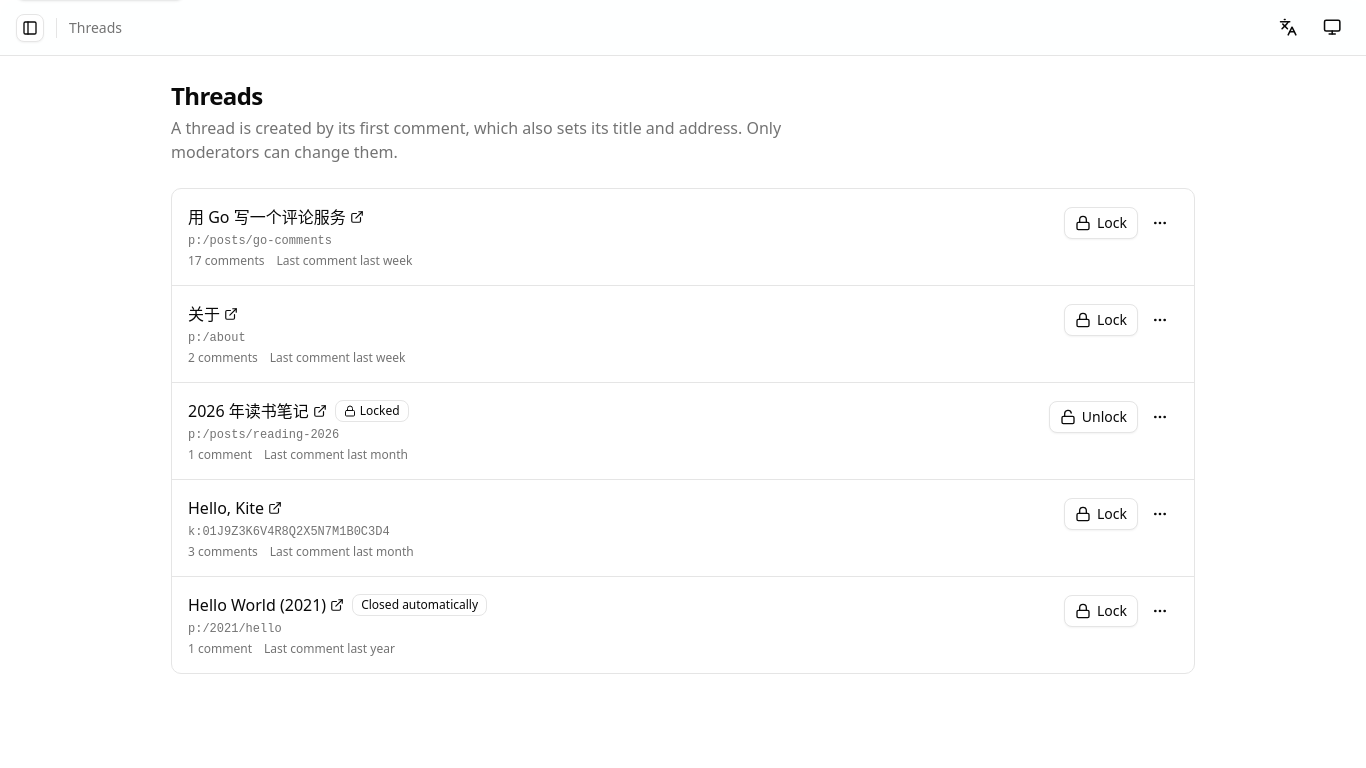
Scenario: moderation › corrects a title set by the first commenter, refusing a future date
Step 1. Click the button named "More actions" → (1160, 320), box [1142, 302, 1178, 338]
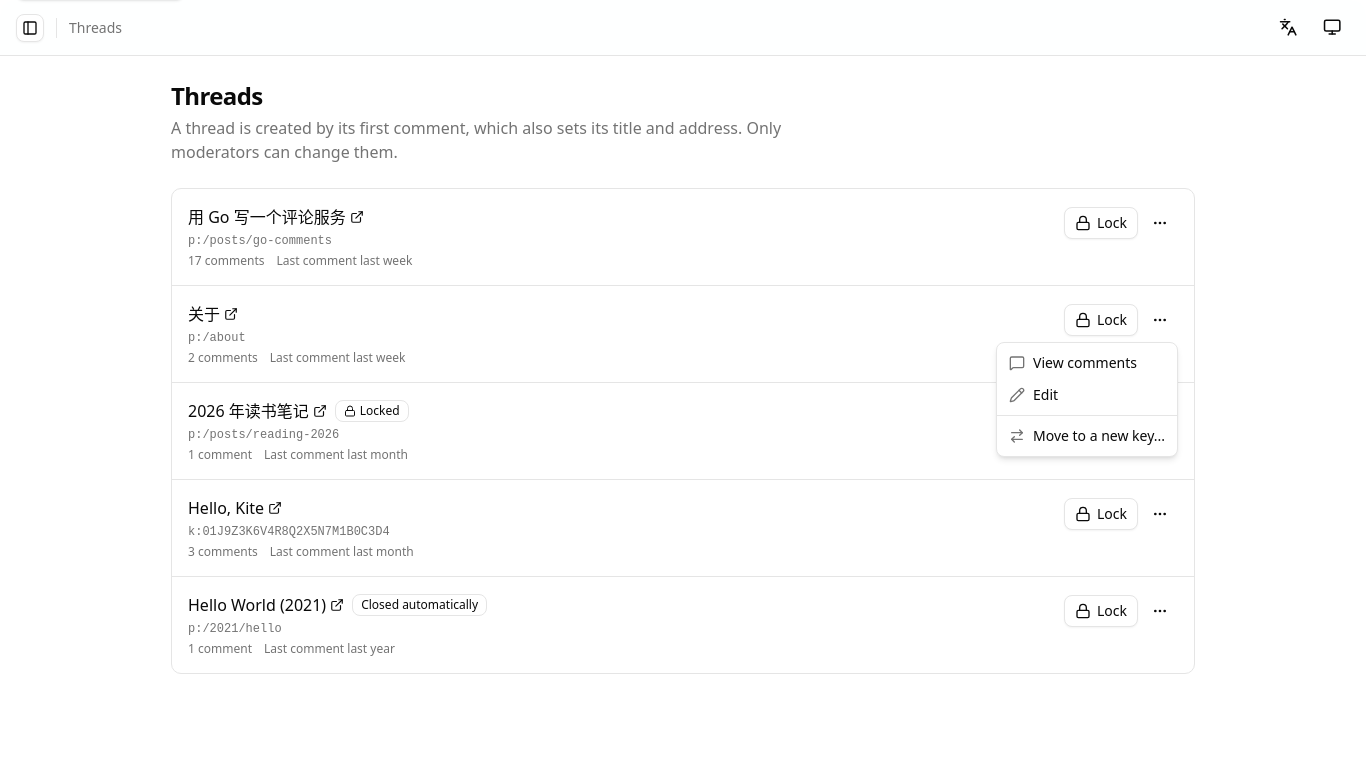
Step 2. Click the menu item "Edit" → (1034, 394), box [1009, 385, 1058, 404]
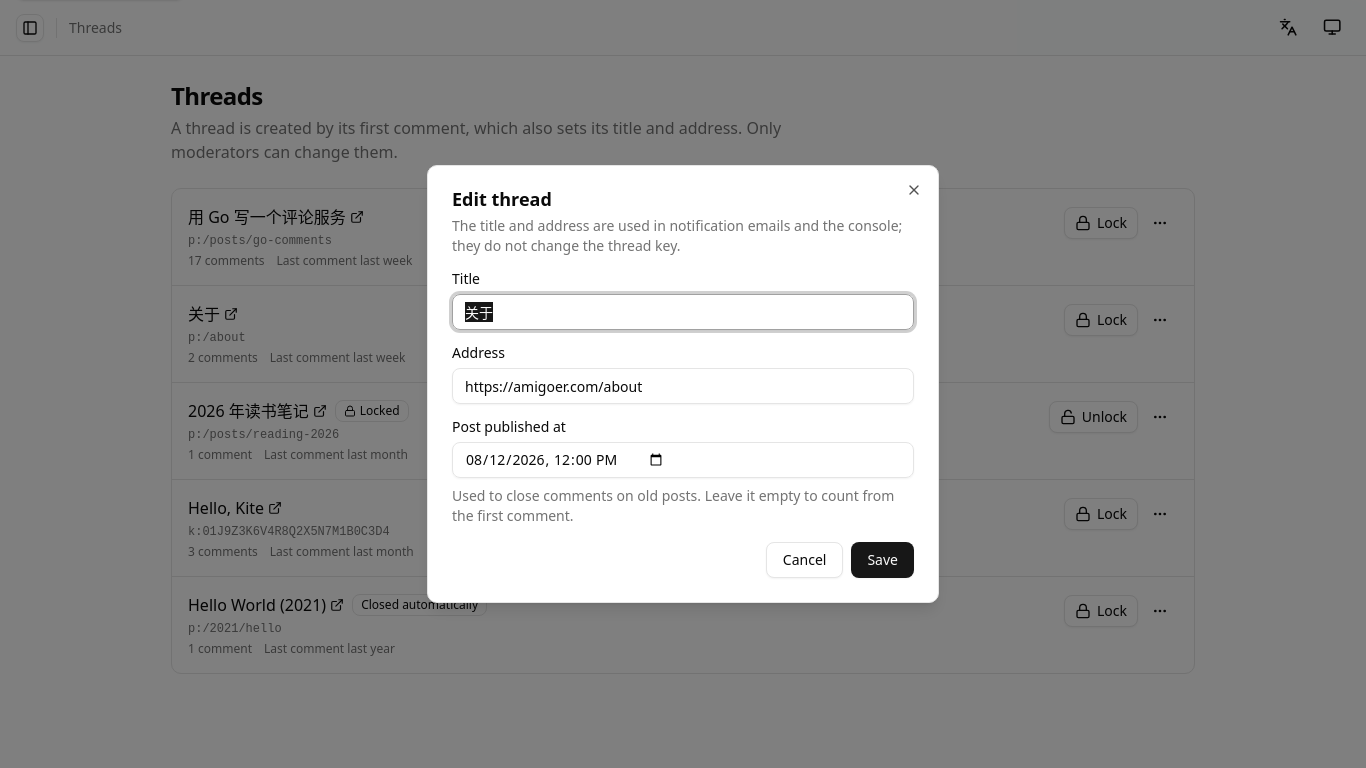
Step 3. Replace the text in the field labelled "Post published at" with "2999-01-01T00:00" → (683, 460), box [452, 442, 914, 478]
Step 4. Click the button "Save" → (883, 560), box [851, 542, 914, 578]
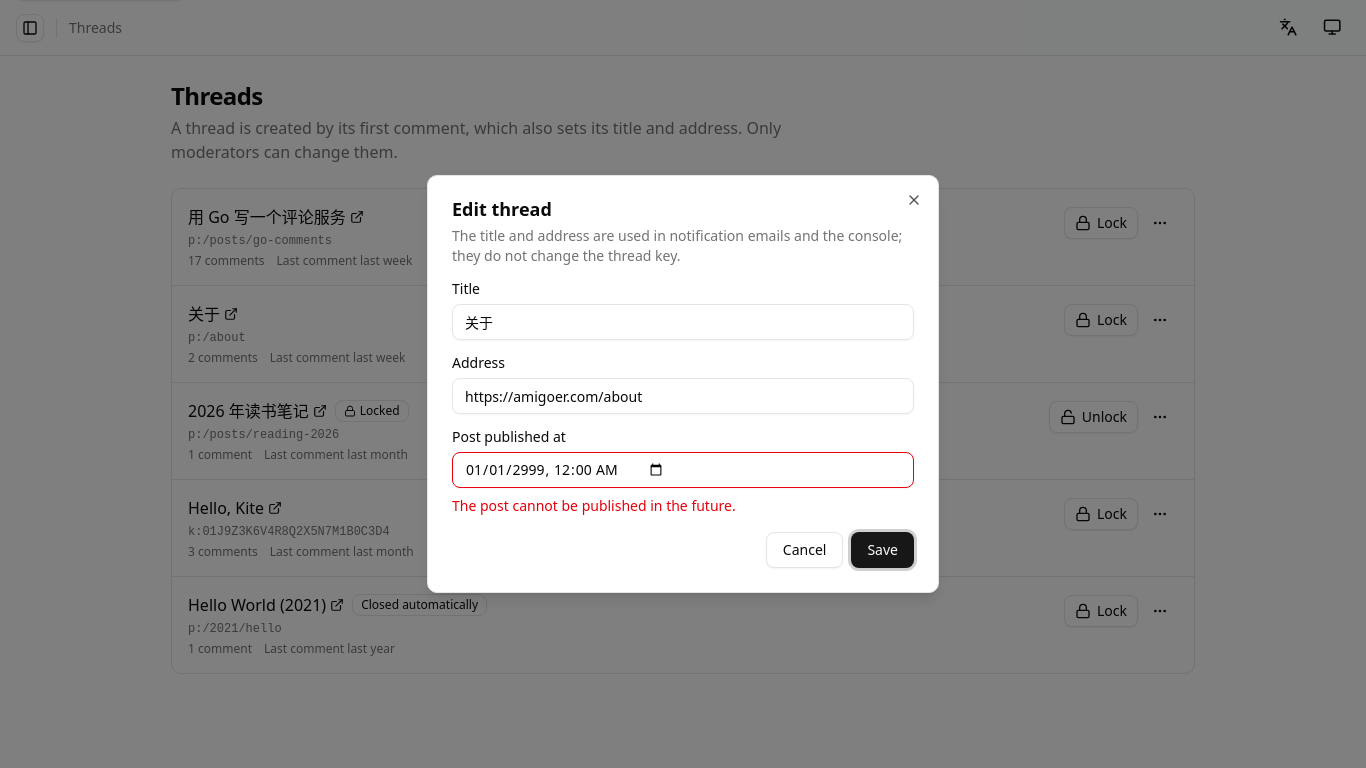
Expected: the text "The post cannot be published in the future." is shown, [452, 496, 736, 515]
Step 5. Replace the text in the field labelled "Post published at" with "2020-01-01T00:00" → (683, 470), box [452, 452, 914, 488]
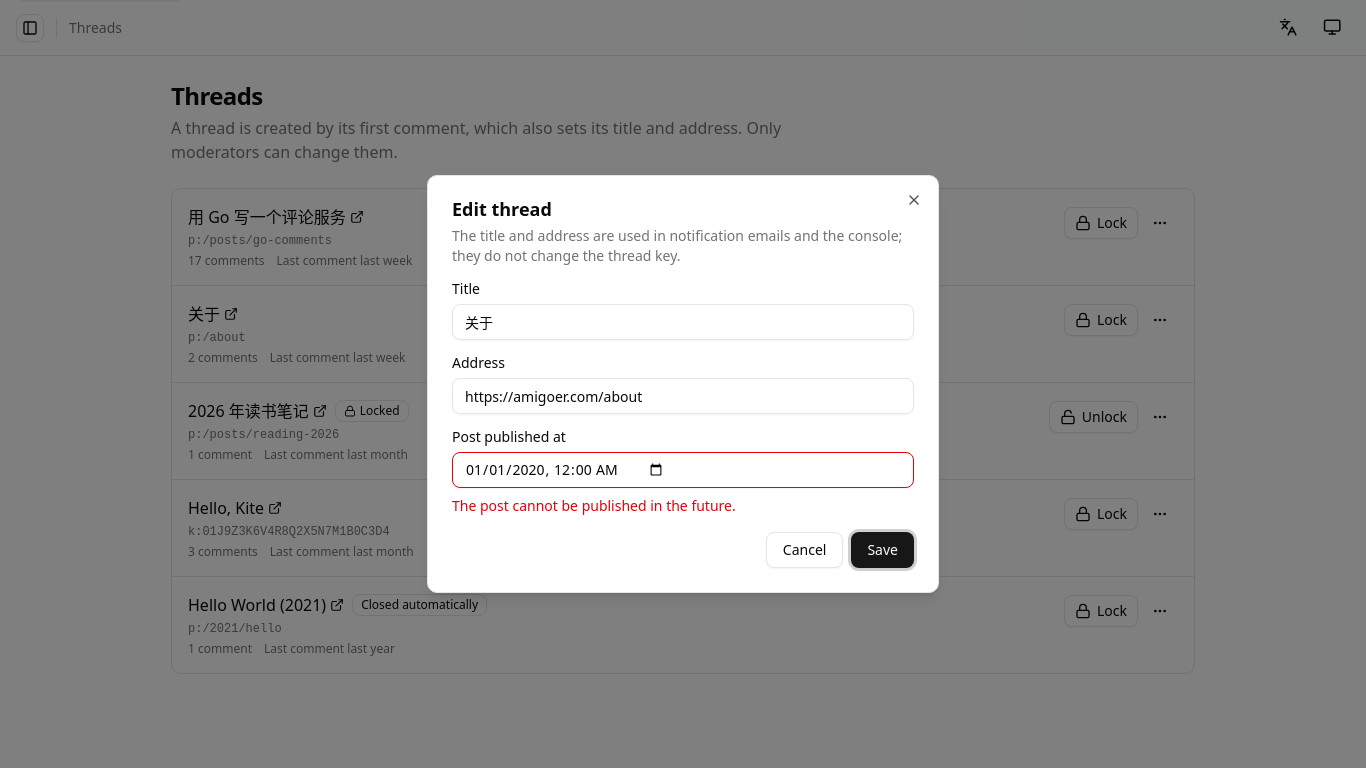
Step 6. Replace the text in the field labelled "Title" with "About me" → (683, 322), box [452, 304, 914, 340]
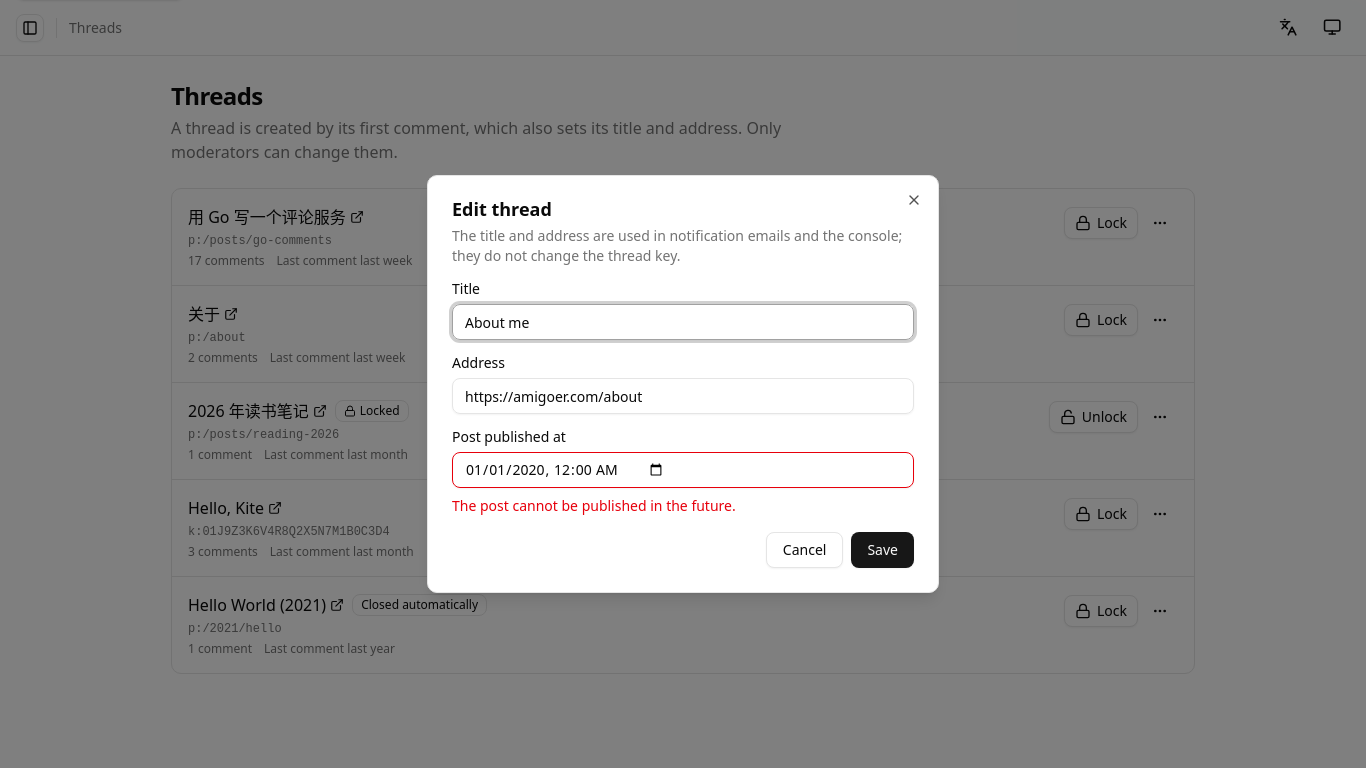
Step 7. Click the button "Save" → (883, 550), box [851, 532, 914, 568]
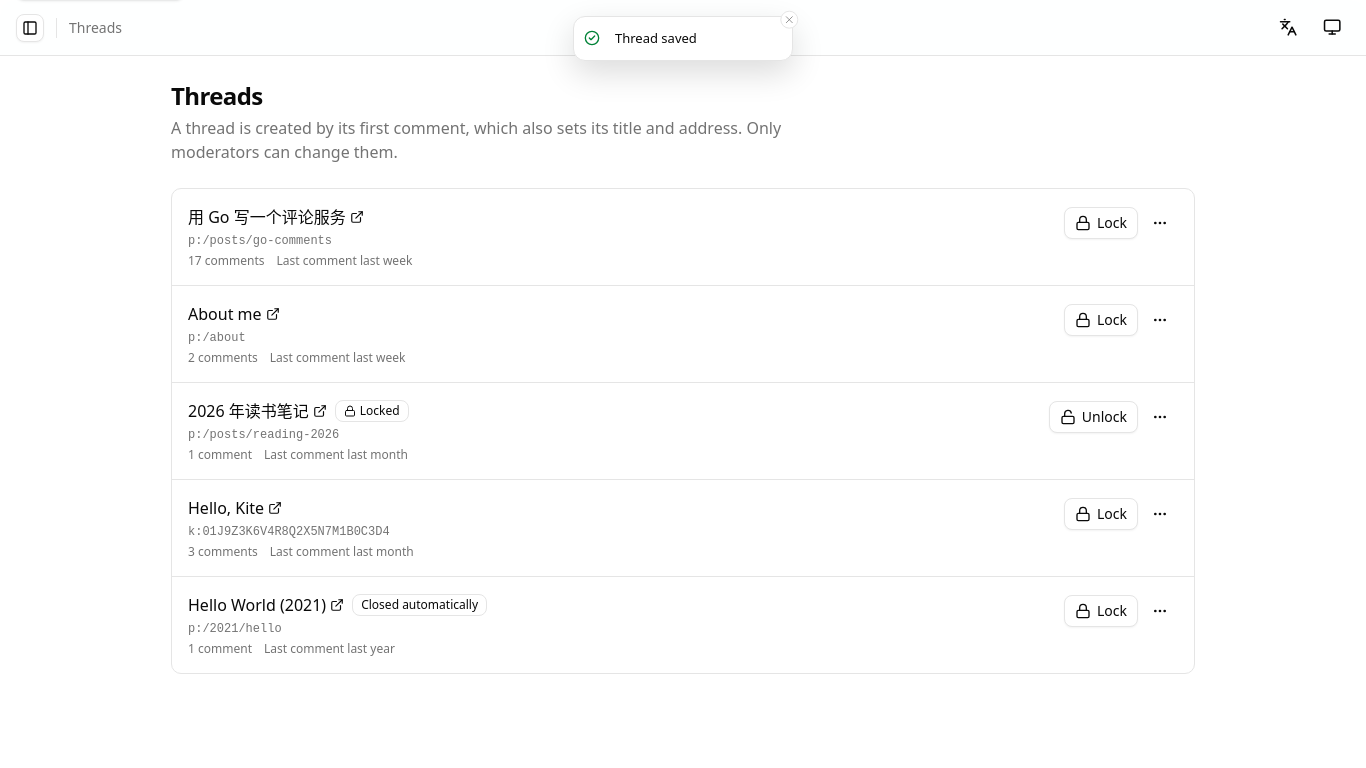
Expected: the text "Thread saved" is shown, [615, 29, 697, 47]
